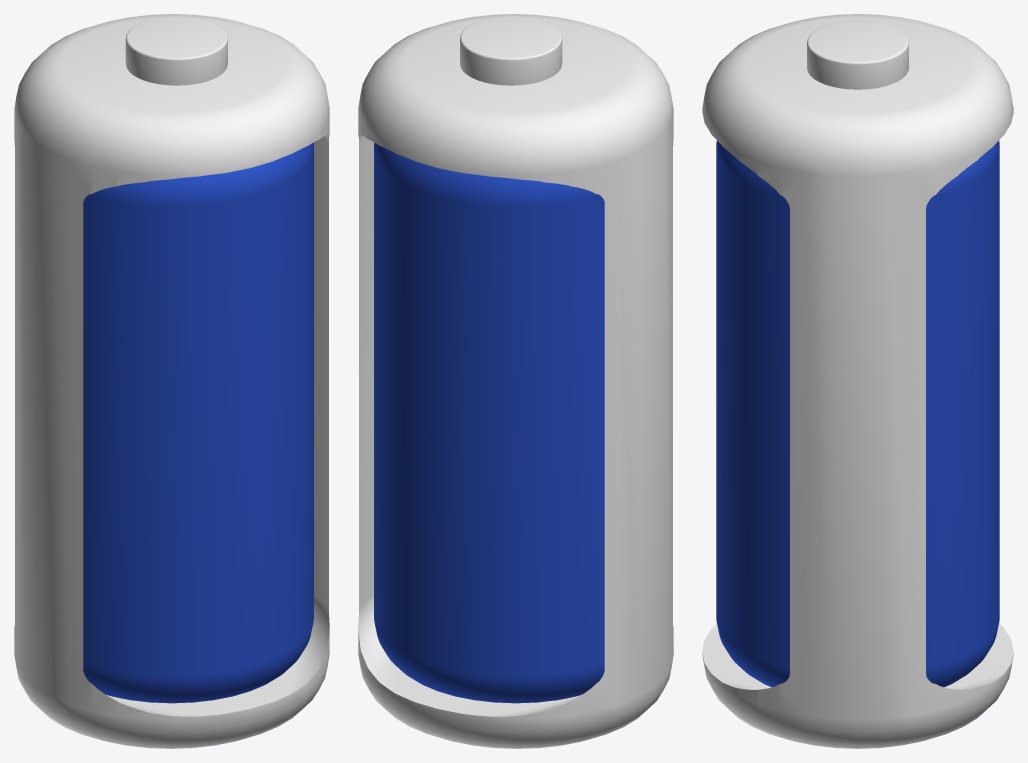
The model's file is battery backpack.fbx.
The picture shows the model from 3 angles, left to right: view 1: azimuth 30°, elevation 25°; view 2: azimuth 150°, elevation 25°; view 3: azimuth 270°, elevation 25°; orthographic projection.
Visible parts, largest first — view 1: Cylinder_2, Cylinder, Cylinder_1; view 2: Cylinder_2, Cylinder, Cylinder_1; view 3: Cylinder, Cylinder_2, Cylinder_1.
Boxes of the visible parts, x1,y1,x2,y2 form: Cylinder_2: [83, 142, 313, 703]; Cylinder: [14, 14, 329, 748]; Cylinder_1: [125, 16, 227, 85]; Cylinder_2: [374, 142, 604, 703]; Cylinder: [358, 14, 673, 748]; Cylinder_1: [460, 16, 562, 85]; Cylinder: [702, 14, 1013, 748]; Cylinder_2: [716, 140, 999, 687]; Cylinder_1: [807, 20, 908, 89].
Bounding box in the file's own units: 90.77 × 208 × 89.45.
